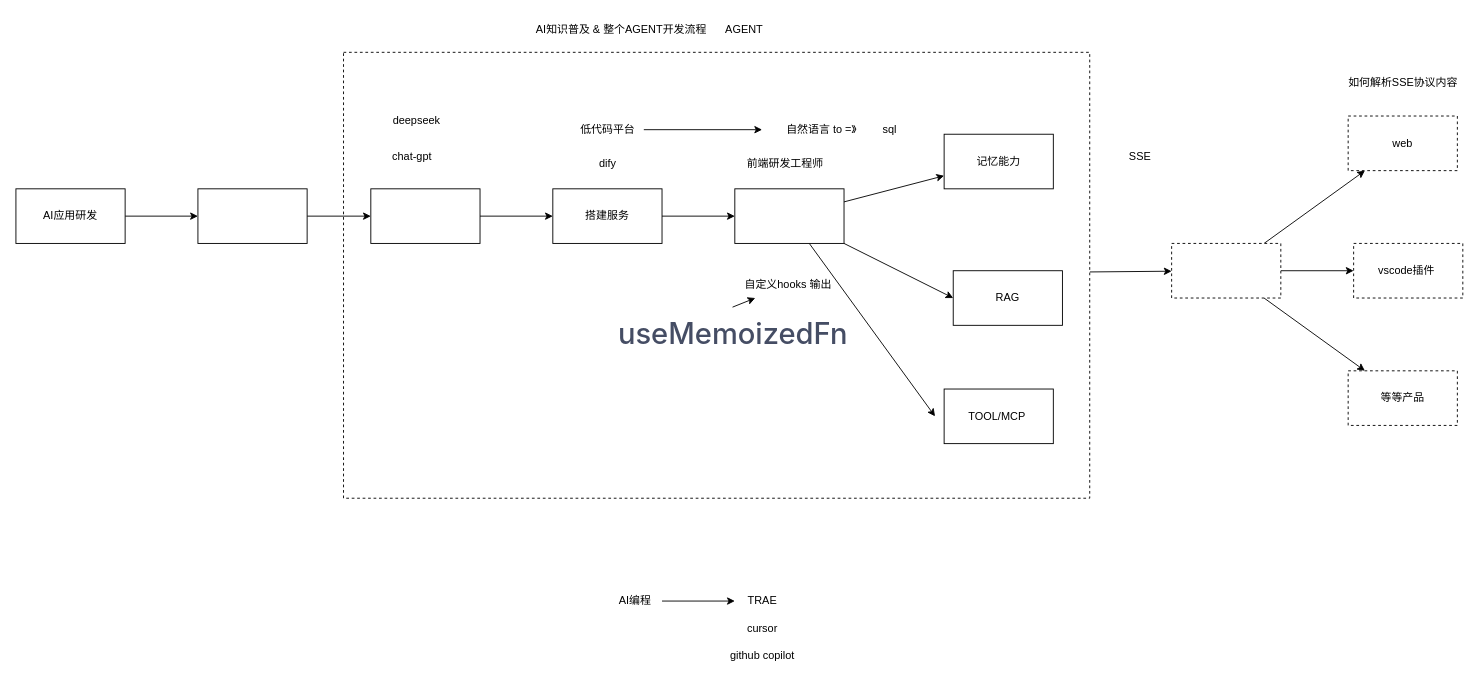
The diagram is 1482 pixels wide and 684 high, and some of its shapes have lost their labels. Here are the shapes that lost their labels. From the top down, the centre of each, then its label:
[252,215]: 概念学习 LLM RAG AGETN MCP FunctionCALL
[425,215]: LLM部署
[789,215]: 提示词工程
[1226,270]: 开发出产品
